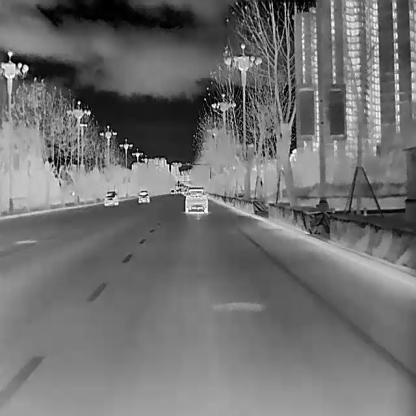car: (184, 186, 208, 213), (104, 190, 118, 206), (138, 190, 149, 202), (170, 190, 174, 193)
